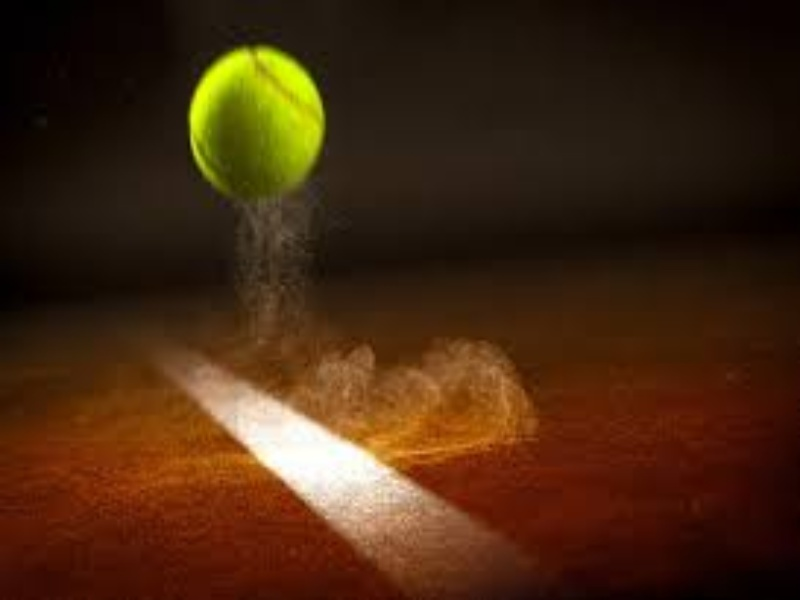tennis ball: (173, 34, 357, 212)
